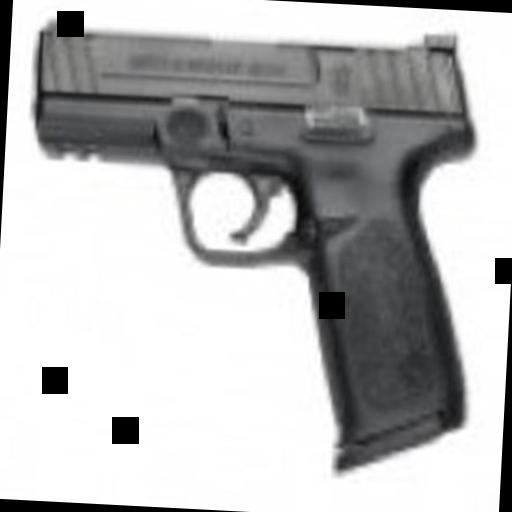Handgun: (7, 0, 484, 479)
